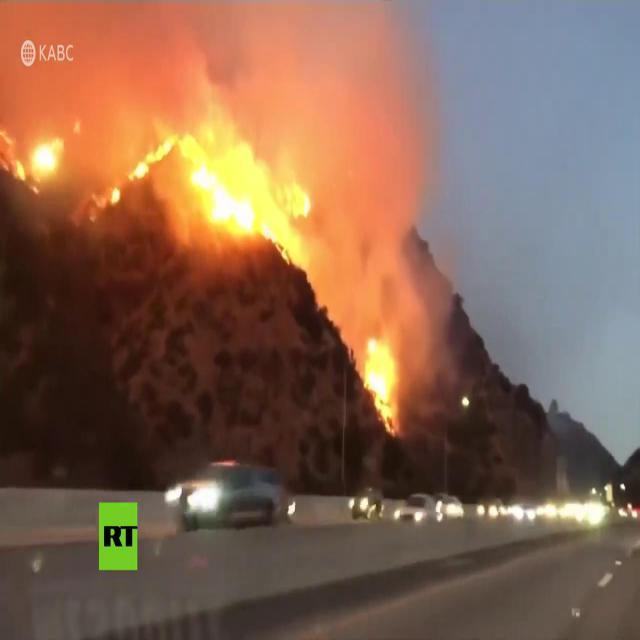Fire: (182, 128, 312, 270), (0, 122, 65, 193), (362, 336, 400, 436), (129, 132, 177, 184), (108, 186, 122, 203)
